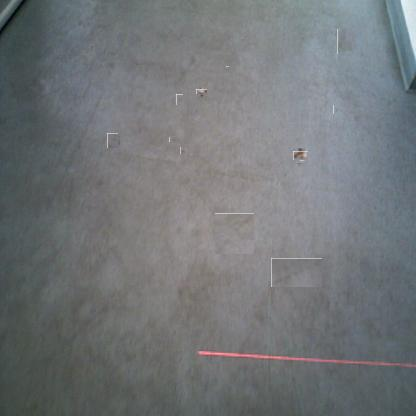dirty: (295, 150, 306, 161), (198, 87, 206, 96)
mark: (214, 214, 255, 254), (271, 258, 322, 287), (177, 54, 195, 82), (337, 29, 352, 54), (106, 134, 119, 147), (176, 94, 183, 105), (333, 104, 340, 114), (180, 146, 187, 154), (170, 136, 176, 143), (226, 66, 230, 73)
